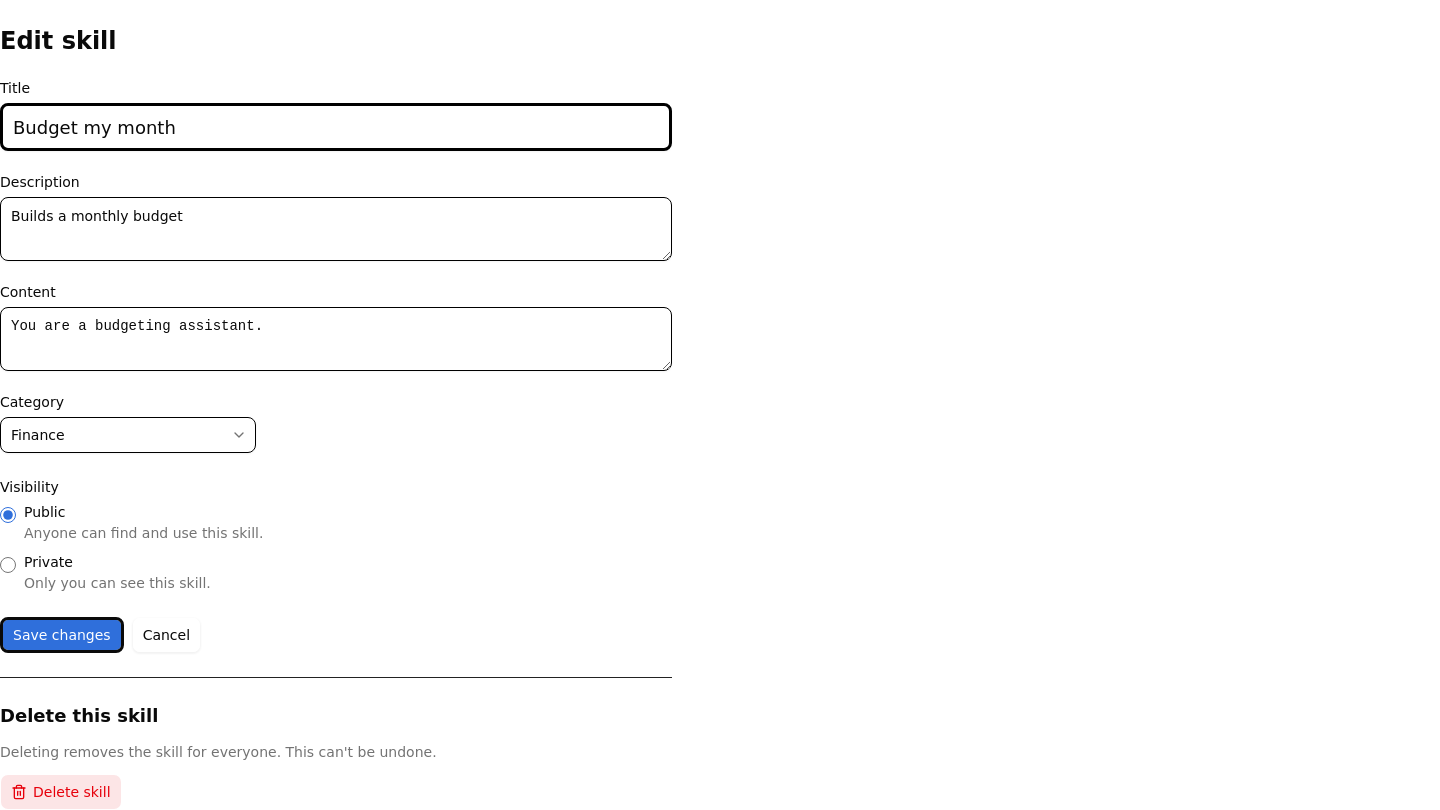
Test: Delete skill › asks for confirmation and does nothing when cancelled
(page scrolled)
Step 1. Click the button "Delete skill" → click(61, 792), box left=0, top=774, right=122, bottom=809
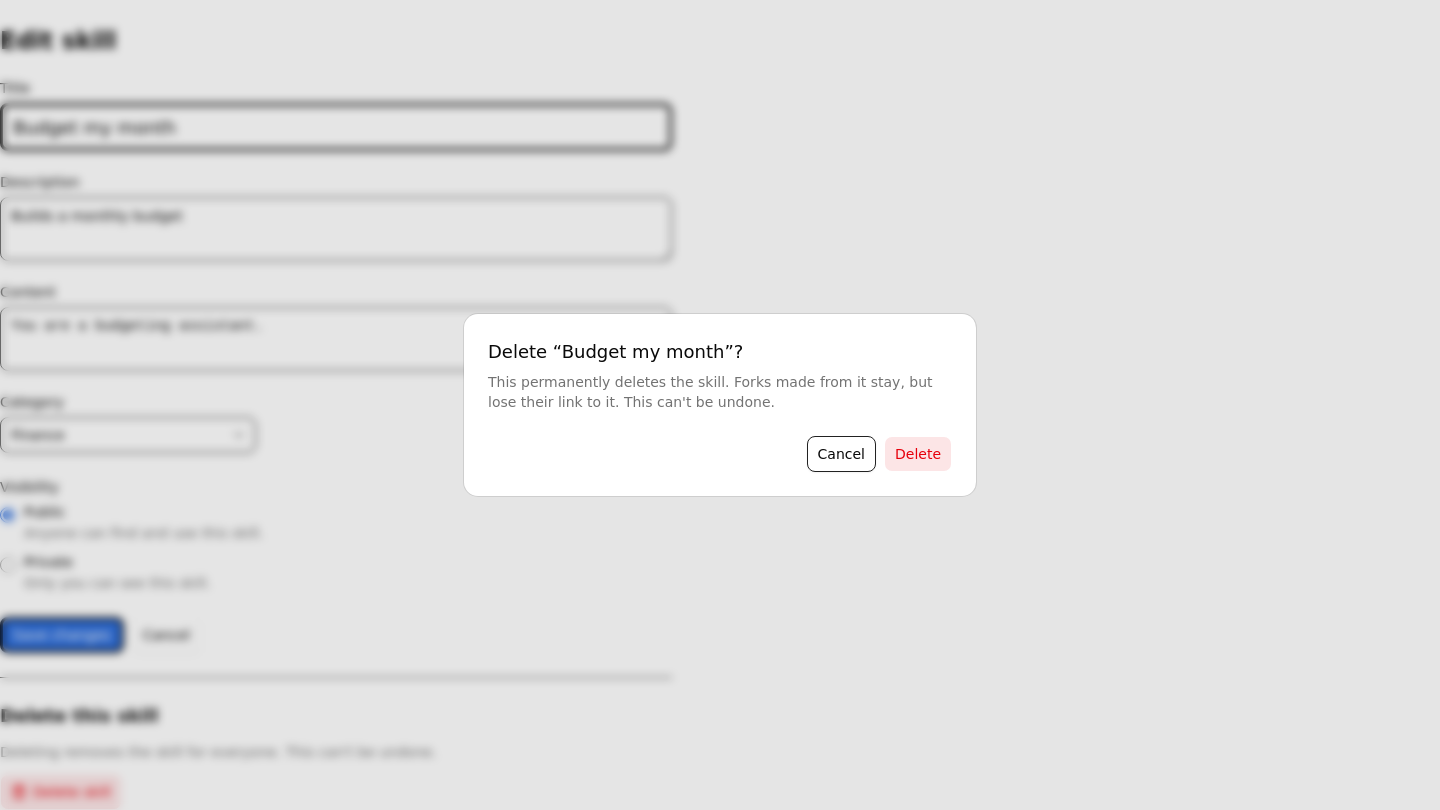
expect the dialog is shown: met, box left=464, top=314, right=976, bottom=496
expect the heading "Delete “Budget my month”?" is shown: met, box left=488, top=338, right=743, bottom=366
Step 2. Click the button "Cancel" → click(841, 454), box left=807, top=436, right=876, bottom=472
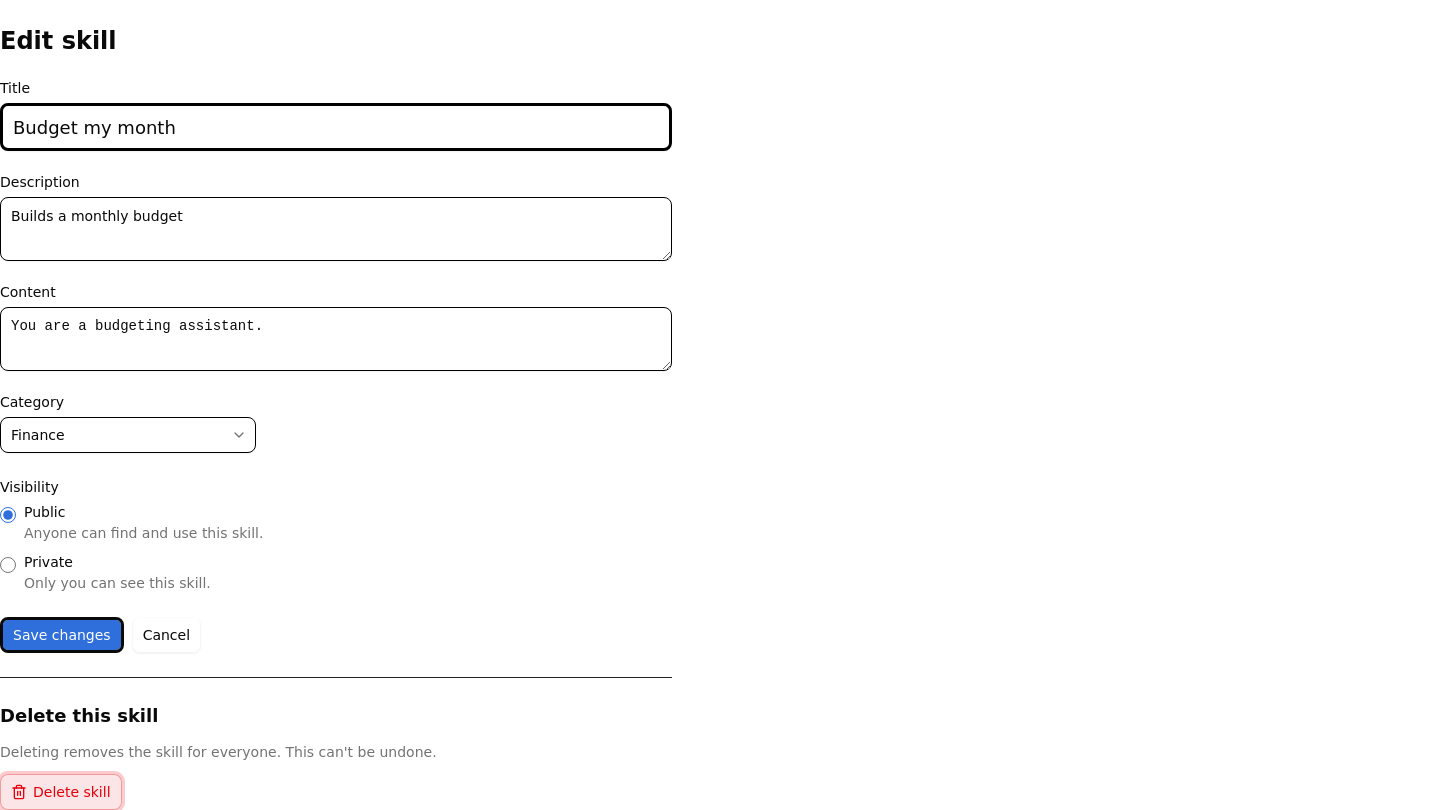
expect the dialog is gone: met
